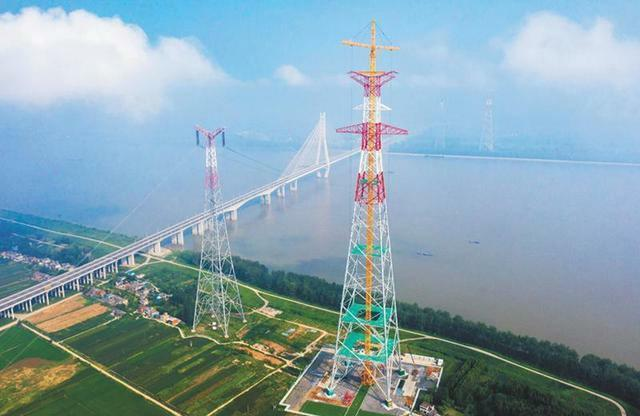power_tower: (329, 66, 411, 404), (189, 114, 248, 338)
